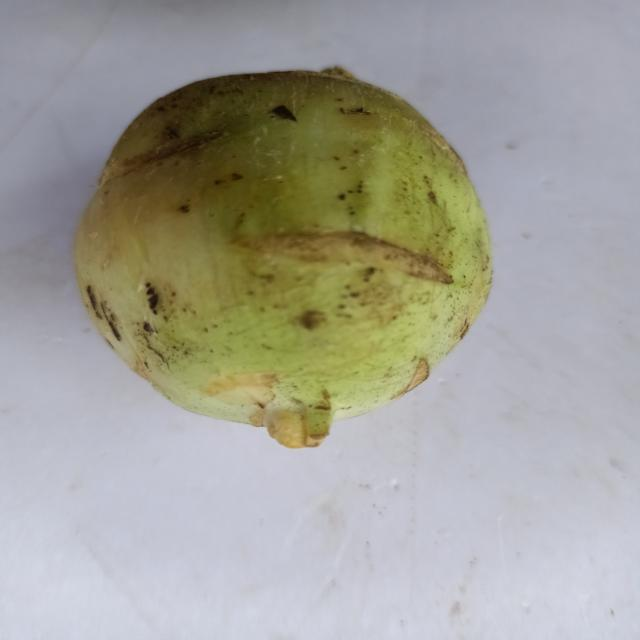Turnip: (62, 51, 531, 468)
